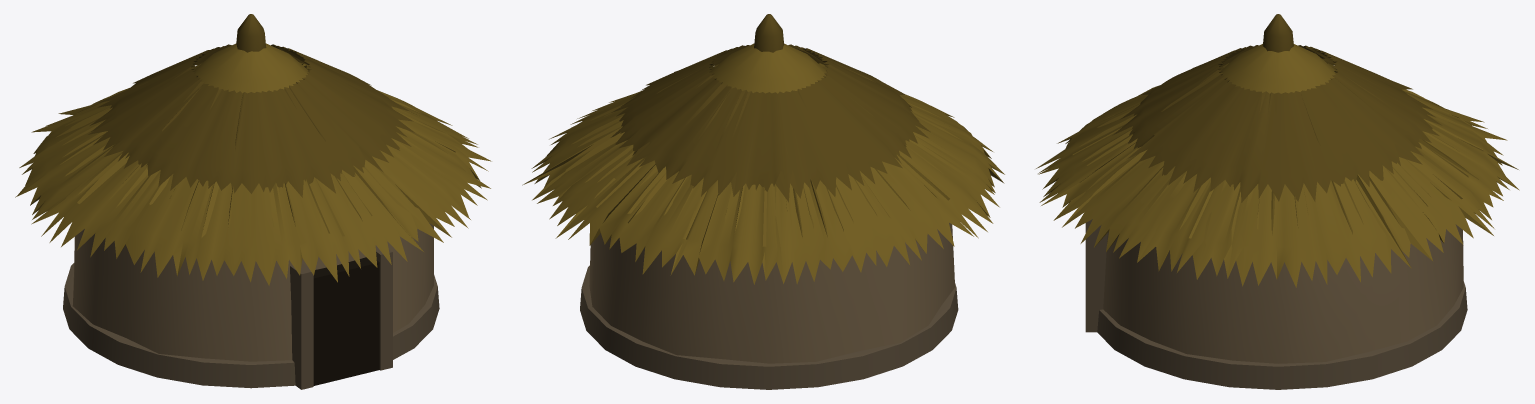
Rendered from ZonHut10.glb.
3 renders of one model, left to right at view 1: azimuth 30°, elevation 25°; view 2: azimuth 150°, elevation 25°; view 3: azimuth 270°, elevation 25°, orthographic.
Visible parts, largest first — view 1: hut_wall; view 2: hut_wall; view 3: hut_wall.
Part boxes in pixels (<box>): hut_wall: <box>15,14,491,389</box>; hut_wall: <box>522,14,1004,389</box>; hut_wall: <box>1036,14,1519,389</box>.
Bounding box in the file's own units: 5.56 × 3.69 × 5.5.
